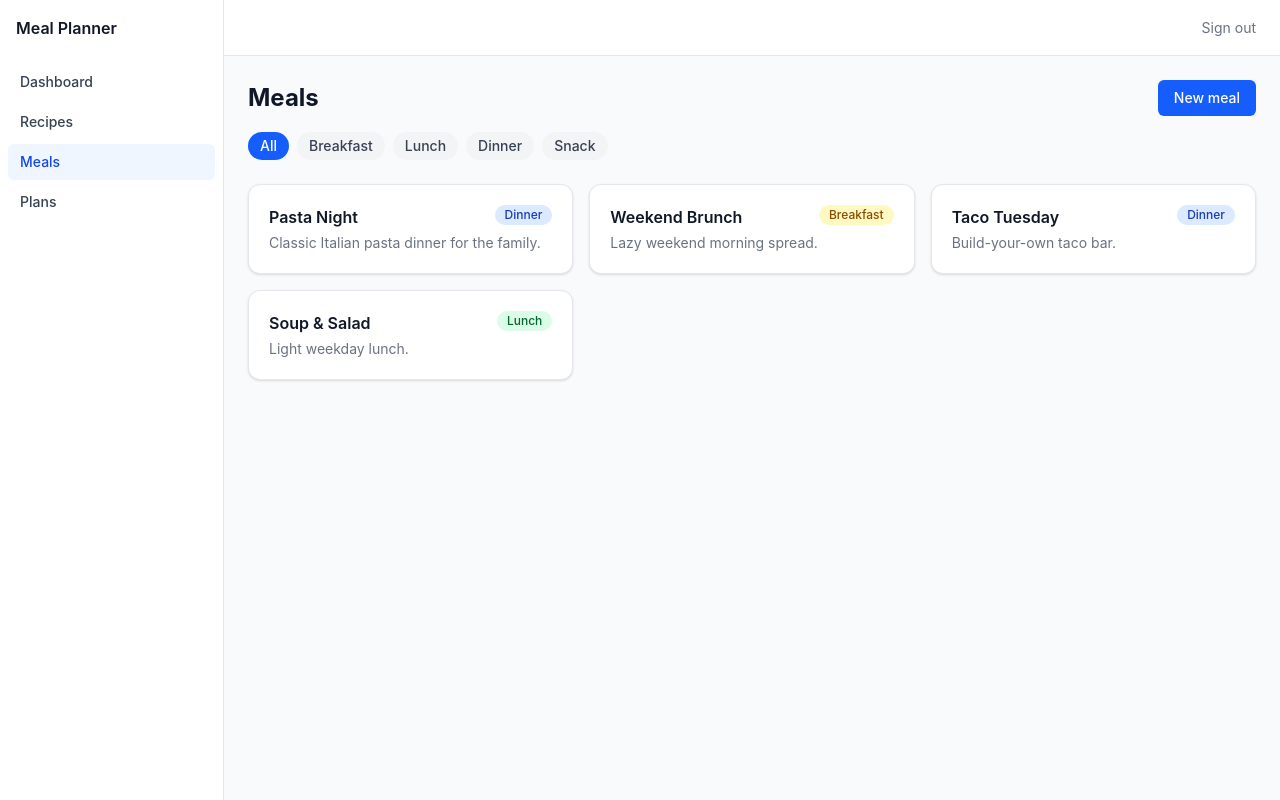
Test: MealListPage › filters meals by type when pill clicked
Check: the heading "Pasta Night" is shown, box [269,205,358,229]
Click the button "Breakfast": {"x": 341, "y": 146} [297,132,385,160]
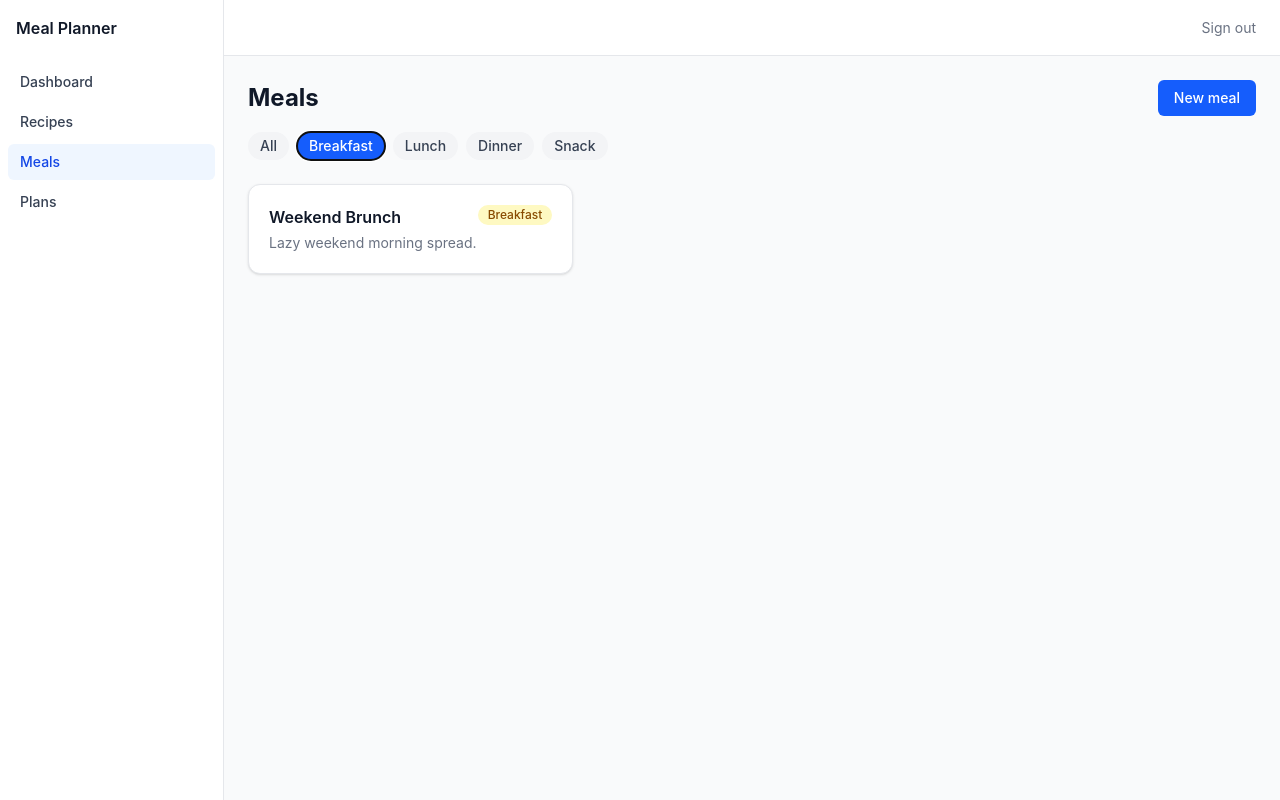
Check: the heading "Weekend Brunch" is shown, box [269,205,401,229]
Check: the link "Pasta Night" is gone
